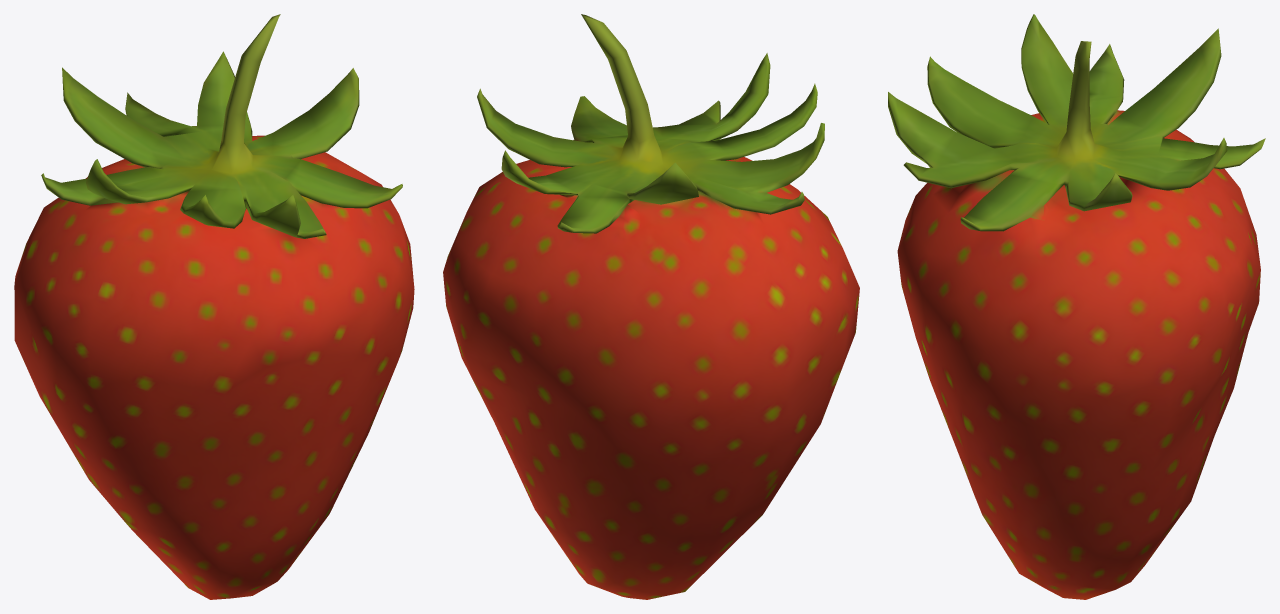
Rendered from strawberry_LP.glb.
3 renders of one model, left to right at view 1: azimuth 30°, elevation 25°; view 2: azimuth 150°, elevation 25°; view 3: azimuth 270°, elevation 25°, orthographic. The views are drawn at different scales.
Visible parts, largest first — view 1: Retopo_strawberry_for_print.001; view 2: Retopo_strawberry_for_print.001; view 3: Retopo_strawberry_for_print.001.
Part boxes in pixels (bbox=[...]): Retopo_strawberry_for_print.001: bbox=[14, 14, 414, 599]; Retopo_strawberry_for_print.001: bbox=[443, 14, 859, 599]; Retopo_strawberry_for_print.001: bbox=[888, 14, 1265, 599].
Bounding box in the file's own units: 0.7768 × 1.15 × 0.6792.
Materials: 1 (1 with a texture image).
